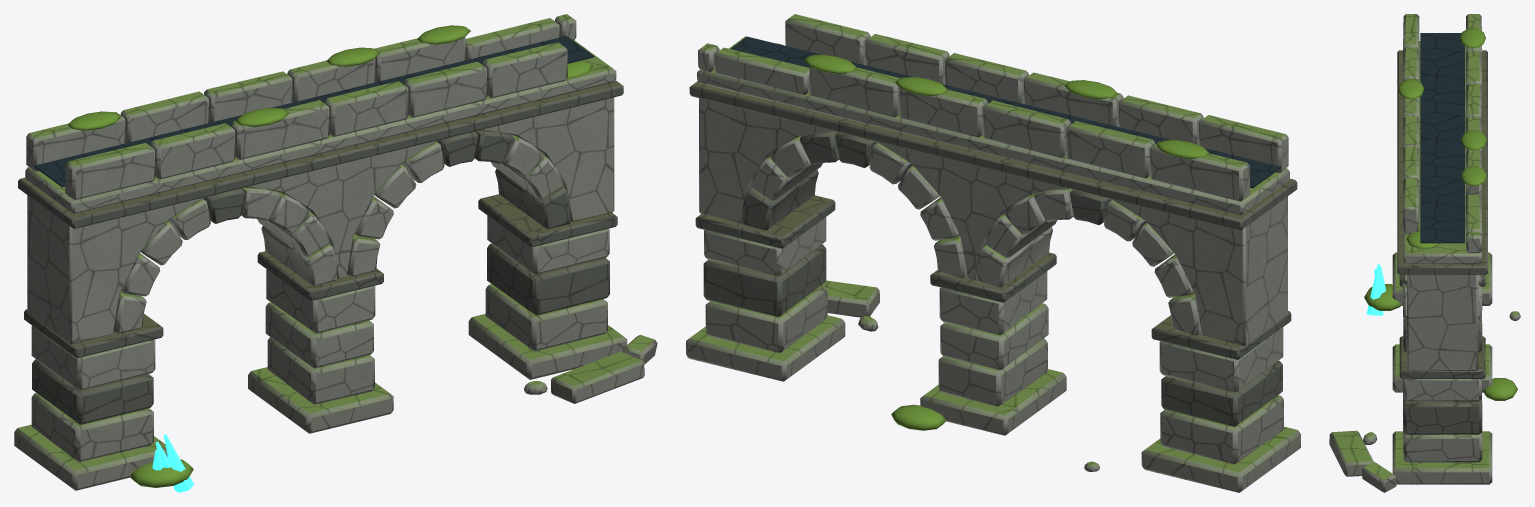
The model's file is aqueduct_section.glb.
3 renders of one model, left to right at view 1: azimuth 30°, elevation 25°; view 2: azimuth 150°, elevation 25°; view 3: azimuth 270°, elevation 25°, orthographic. The views are drawn at different scales.
Visible parts, largest first — view 1: aqueduct_section; view 2: aqueduct_section; view 3: aqueduct_section.
Part boxes in pixels (x1,y1,x2,y2): aqueduct_section: (14,14,657,492); aqueduct_section: (686,14,1300,492); aqueduct_section: (1329,14,1520,492).
Size of the model in its own units: 8.89 by 4.95 by 3.17.
Materials: 5 (4 with a texture image).
